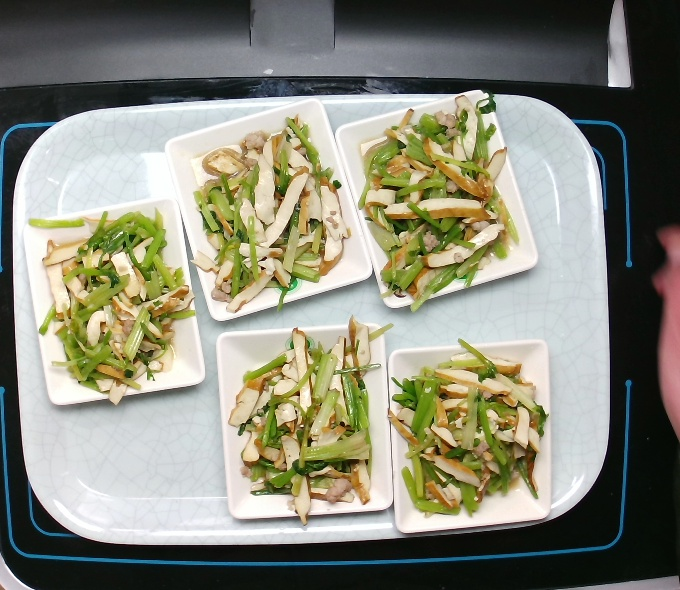wcq-XiangGanQinCai: (353, 84, 526, 318), (224, 310, 396, 533), (184, 108, 354, 320), (26, 208, 198, 411), (383, 330, 551, 523)
